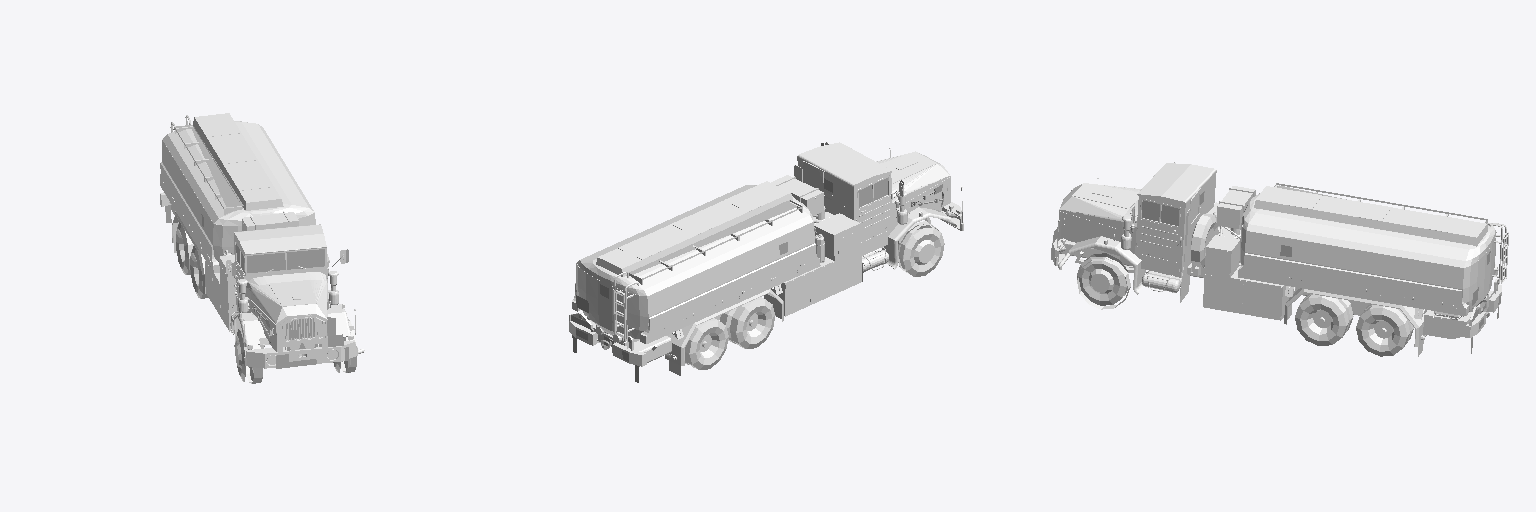
The model's file is faun_stw.obj.
3 views of the same model, side by side, from view 1: azimuth 30°, elevation 25°; view 2: azimuth 150°, elevation 25°; view 3: azimuth 270°, elevation 25° (orthographic).
Parts seen in each view (by area): view 1: tankadds Mesh, kaba Mesh, tankmain Mesh, verdeck Mesh, bumber Mesh, detail Mesh, glas Mesh, radhf Mesh, rost Mesh, radp Mesh, radfv Mesh; view 2: tankadds Mesh, tankmain Mesh, kaba Mesh, verdeck Mesh, radhf Mesh, kf Mesh, radfv Mesh, rost Mesh, rahmen Mesh, radp Mesh, detail Mesh, glas Mesh; view 3: tankadds Mesh, tankmain Mesh, kaba Mesh, radhf Mesh, verdeck Mesh, radfv Mesh, kf Mesh, rahmen Mesh, radp Mesh, rrad Mesh, glas Mesh, detail Mesh.
Part boxes in pixels (x1,y1,x2,y2): tankadds Mesh: (160,113,298,332); kaba Mesh: (226,241,350,351); tankmain Mesh: (162,121,315,261); verdeck Mesh: (234,224,326,260); bumber Mesh: (243,309,357,368); detail Mesh: (165,205,354,368); glas Mesh: (236,244,324,272); radhf Mesh: (176,222,202,298); rost Mesh: (191,127,243,206); radp Mesh: (185,231,356,383); radfv Mesh: (235,329,350,381); tankadds Mesh: (572,161,862,343); tankmain Mesh: (576,185,814,338); kaba Mesh: (824,142,951,272); verdeck Mesh: (797,142,891,211); radhf Mesh: (685,299,775,369); kf Mesh: (569,284,783,375); radfv Mesh: (898,224,944,276); rost Mesh: (626,201,796,275); rahmen Mesh: (596,208,956,366); radp Mesh: (685,222,938,368); detail Mesh: (571,143,942,382); glas Mesh: (824,178,898,207); tankadds Mesh: (1180,183,1508,338); tankmain Mesh: (1240,193,1496,309); kaba Mesh: (1058,162,1214,294); radhf Mesh: (1295,294,1411,356); verdeck Mesh: (1137,163,1216,228); radfv Mesh: (1077,253,1128,305); kf Mesh: (1284,279,1501,356); rahmen Mesh: (1058,220,1493,334); radp Mesh: (1077,257,1413,346); rrad Mesh: (1191,213,1218,267); glas Mesh: (1131,192,1203,232); detail Mesh: (1051,209,1500,353).
Size of the model in its own units: 525 by 308 by 1004.